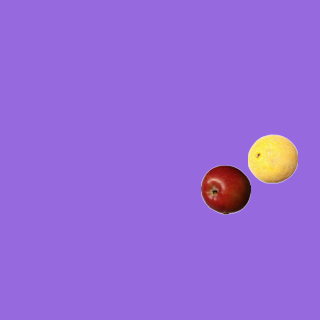Apple Braeburn: (200, 164, 250, 214)
Cantaloupe 1: (247, 133, 297, 183)
